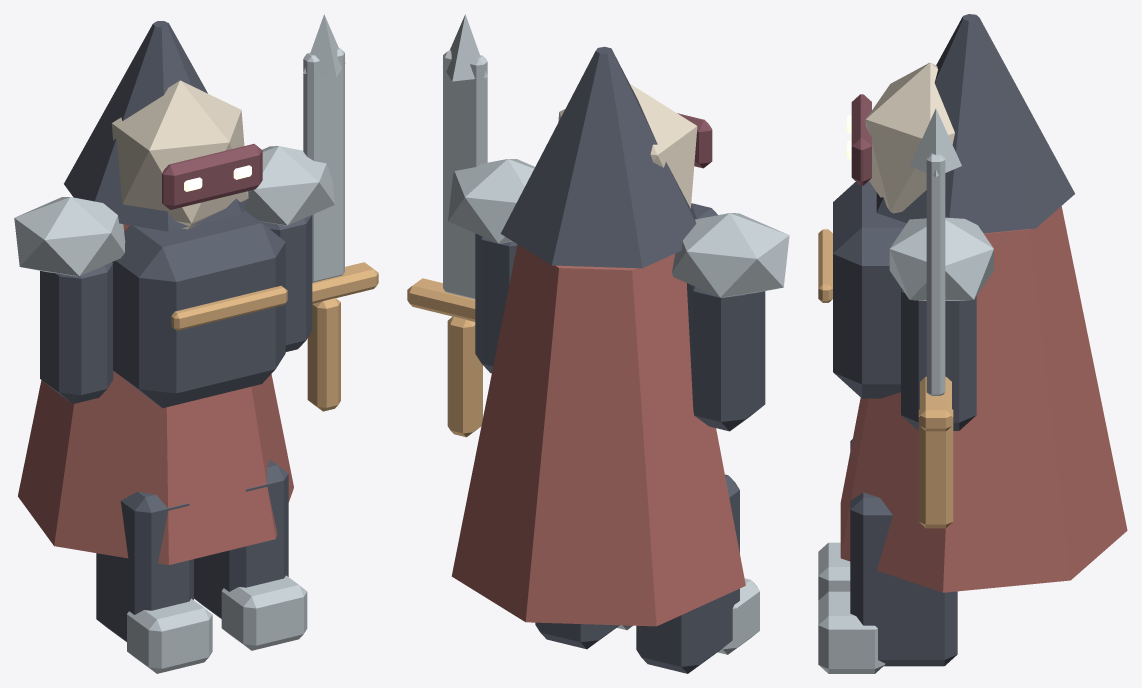
Rendered from ember_knight.glb.
3 views of the same model, side by side, from view 1: azimuth 30°, elevation 25°; view 2: azimuth 150°, elevation 25°; view 3: azimuth 270°, elevation 25° (orthographic). The views are drawn at different scales.
Parts seen in each view (by area): view 1: Layered cloak, Breastplate, Head, Deep hood, Arm.001, Boot.001, Pauldron, Sword blade, Boot, Pauldron.001, Boot cap, Boot cap.001 (+6 smaller); view 2: Layered cloak, Deep hood, Arm.001, Pauldron, Sword blade, Boot.001, Pauldron.001, Arm, Sword grip, Head, Sword guard, Boot cap.001 (+3 smaller); view 3: Layered cloak, Deep hood, Breastplate, Boot, Head, Arm, Pauldron.001, Sword blade, Boot cap, Sword grip, Visor shadow, Sword tip (+3 smaller).
Part boxes in pixels (box(x1,y1,x2,y2)): Layered cloak: box(18, 224, 293, 564); Breastplate: box(112, 210, 285, 408); Head: box(111, 80, 248, 229); Deep hood: box(64, 21, 248, 231); Arm.001: box(40, 262, 113, 403); Boot.001: box(96, 491, 193, 641); Pauldron: box(14, 197, 125, 276); Sword blade: box(303, 48, 344, 282); Boot: box(194, 459, 288, 618); Pauldron.001: box(244, 146, 334, 225); Boot cap: box(221, 575, 307, 650); Boot cap.001: box(127, 598, 212, 673); Layered cloak: box(451, 244, 745, 626); Deep hood: box(500, 46, 696, 268); Arm.001: box(687, 283, 765, 431); Pauldron: box(672, 213, 789, 297); Sword blade: box(443, 50, 487, 299); Boot.001: box(636, 474, 739, 673); Pauldron.001: box(448, 159, 534, 243); Arm: box(475, 233, 517, 373); Sword grip: box(447, 316, 482, 437); Head: box(558, 84, 697, 208); Sword guard: box(407, 278, 475, 321); Boot cap.001: box(718, 578, 759, 654); Layered cloak: box(840, 206, 1127, 592); Deep hood: box(876, 14, 1074, 233); Breastplate: box(833, 181, 906, 398); Boot: box(850, 490, 957, 666); Head: box(865, 62, 954, 213); Arm: box(901, 288, 976, 430); Pauldron.001: box(889, 217, 993, 300); Sword blade: box(926, 153, 945, 395); Boot cap: box(818, 591, 885, 673); Sword grip: box(918, 409, 953, 528); Visor shadow: box(851, 94, 871, 185); Sword tip: box(910, 108, 961, 176).
Size of the model in its own units: 1.48 by 2.35 by 1.06.
